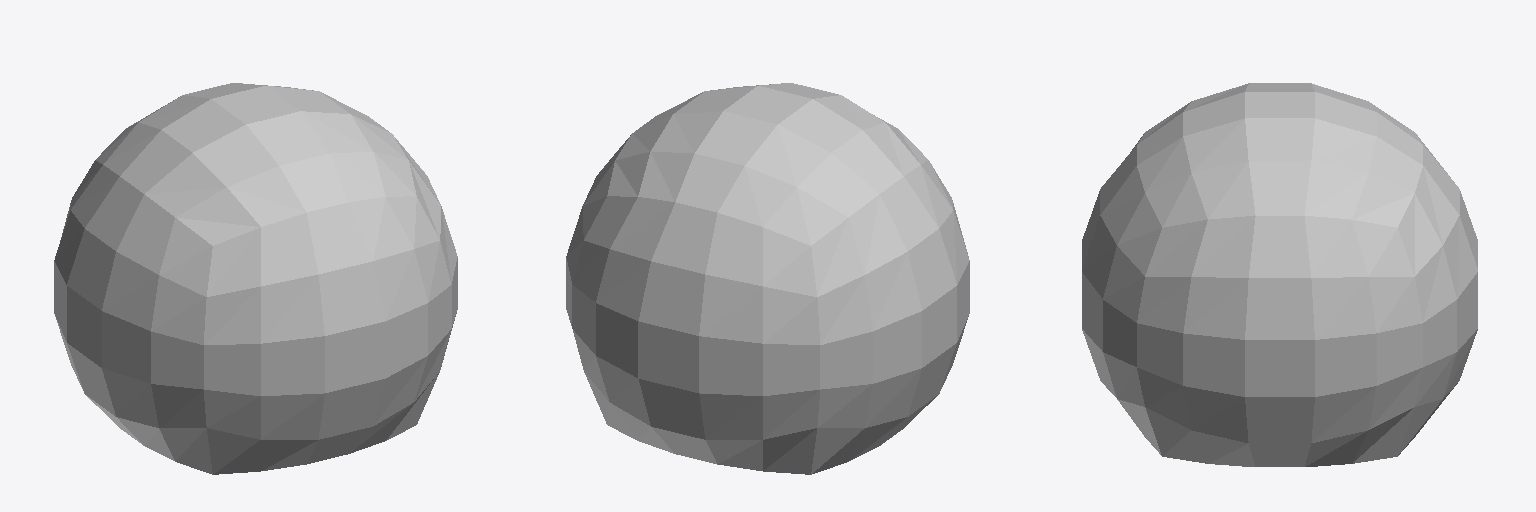
The model's file is skyDome.obj.
The picture shows the model from 3 angles: view 1: azimuth 30°, elevation 25°; view 2: azimuth 150°, elevation 25°; view 3: azimuth 270°, elevation 25°; orthographic projection.
Visible parts, largest first — view 1: skyDome; view 2: skyDome; view 3: skyDome.
Boxes of the visible parts, box(x1,y1,x2,y2) form: skyDome: box(54, 83, 457, 474); skyDome: box(566, 83, 969, 474); skyDome: box(1082, 83, 1477, 466).
Bounding box in the file's own units: 315 × 264 × 315.